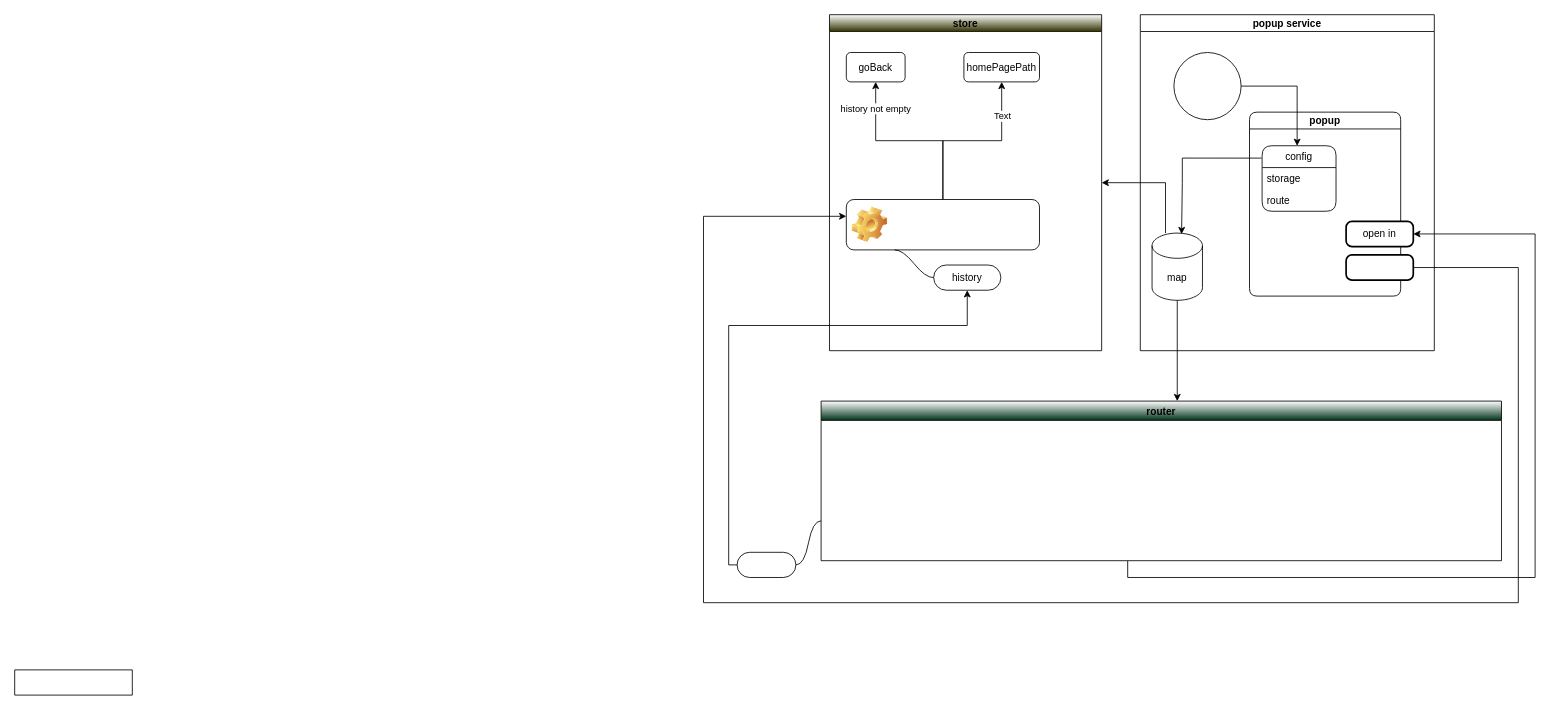
Image size: 1557x710. Some labels were removed from this diagram. The shapes that lost their labels are listed below. From the top down, each one's centre as x and y in pixels, then its label:
At (1207,86): "Popup Interface".
At (942,224): "check history is empty".
At (1379,267): "close in".
At (766,564): "guard".
At (73,682): "old popup service".
